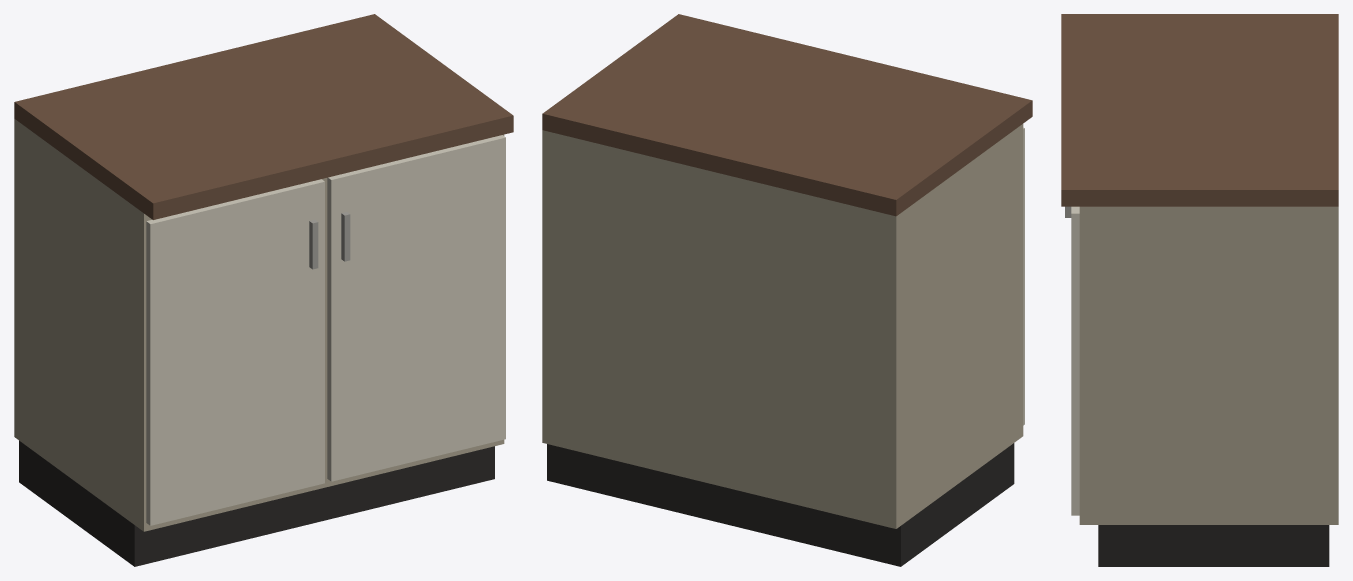
Rendered from kitchen-base-cabinet.glb.
3 views of the same model, side by side, from view 1: azimuth 30°, elevation 25°; view 2: azimuth 150°, elevation 25°; view 3: azimuth 270°, elevation 25° (orthographic).
Visible parts, largest first — view 1: enamel, wood, plastic-light, plastic-dark, brushed; view 2: plastic-light, wood, plastic-dark; view 3: plastic-light, wood, plastic-dark, enamel.
Boxes of the visible parts, <box> form: enamel: <box>146,135,505,525</box>; wood: <box>14,14,513,219</box>; plastic-light: <box>14,119,504,531</box>; plastic-dark: <box>19,440,494,566</box>; brushed: <box>309,212,350,269</box>; plastic-light: <box>542,124,1023,528</box>; wood: <box>542,14,1032,216</box>; plastic-dark: <box>547,443,1014,566</box>; plastic-light: <box>1079,206,1338,524</box>; wood: <box>1061,14,1338,206</box>; plastic-dark: <box>1098,525,1329,566</box>; enamel: <box>1071,206,1079,515</box>.
Size of the model in its own units: 0.9 by 0.9 by 0.6.
